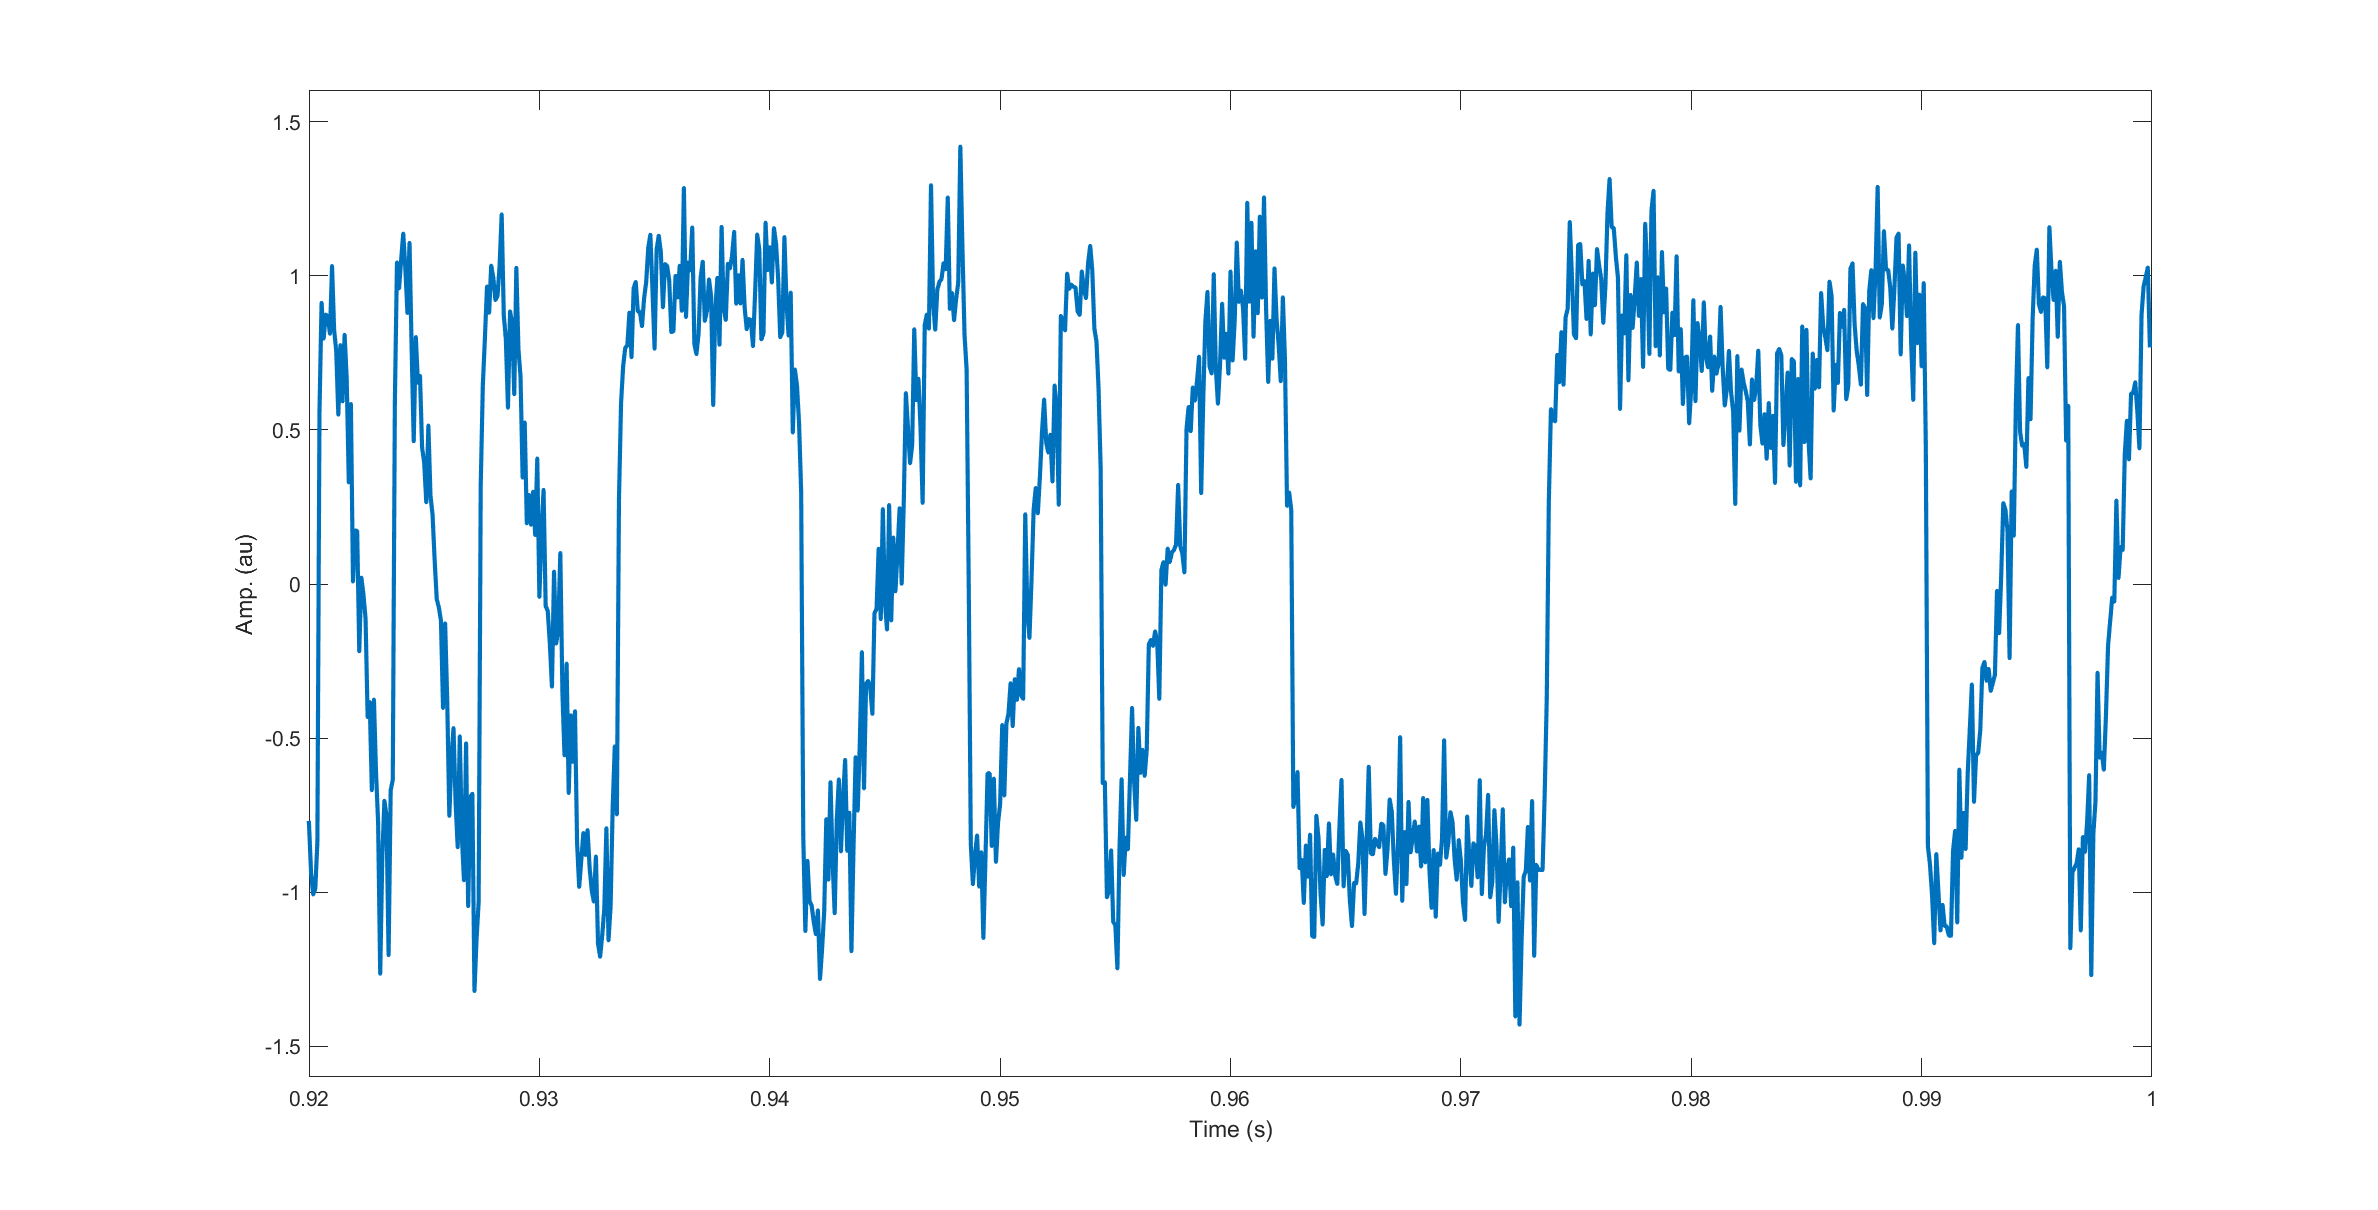negative_fringe: (471, 196, 594, 897), (384, 211, 468, 960), (313, 248, 380, 897)
positive_fringe: (821, 136, 983, 968), (1130, 188, 1309, 934), (1947, 211, 2082, 955), (989, 232, 1119, 968)
